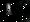person: (7, 4, 13, 16), (20, 3, 26, 13)
